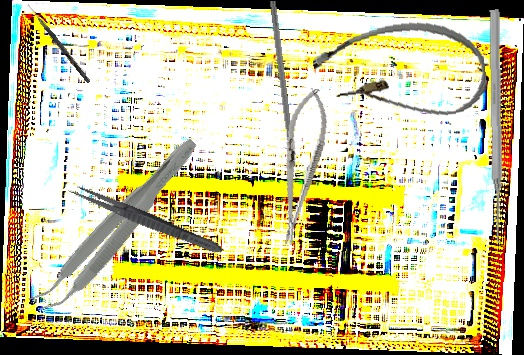Cannula: (309, 14, 491, 132)
Chopper: (260, 0, 297, 169)
Dressing Forceps: (65, 180, 227, 259)
Hook Surgical: (25, 3, 92, 84)
Needle Holder: (268, 85, 334, 248)
Pusher: (486, 9, 506, 244)
Tissue Forceps: (26, 126, 205, 323)
